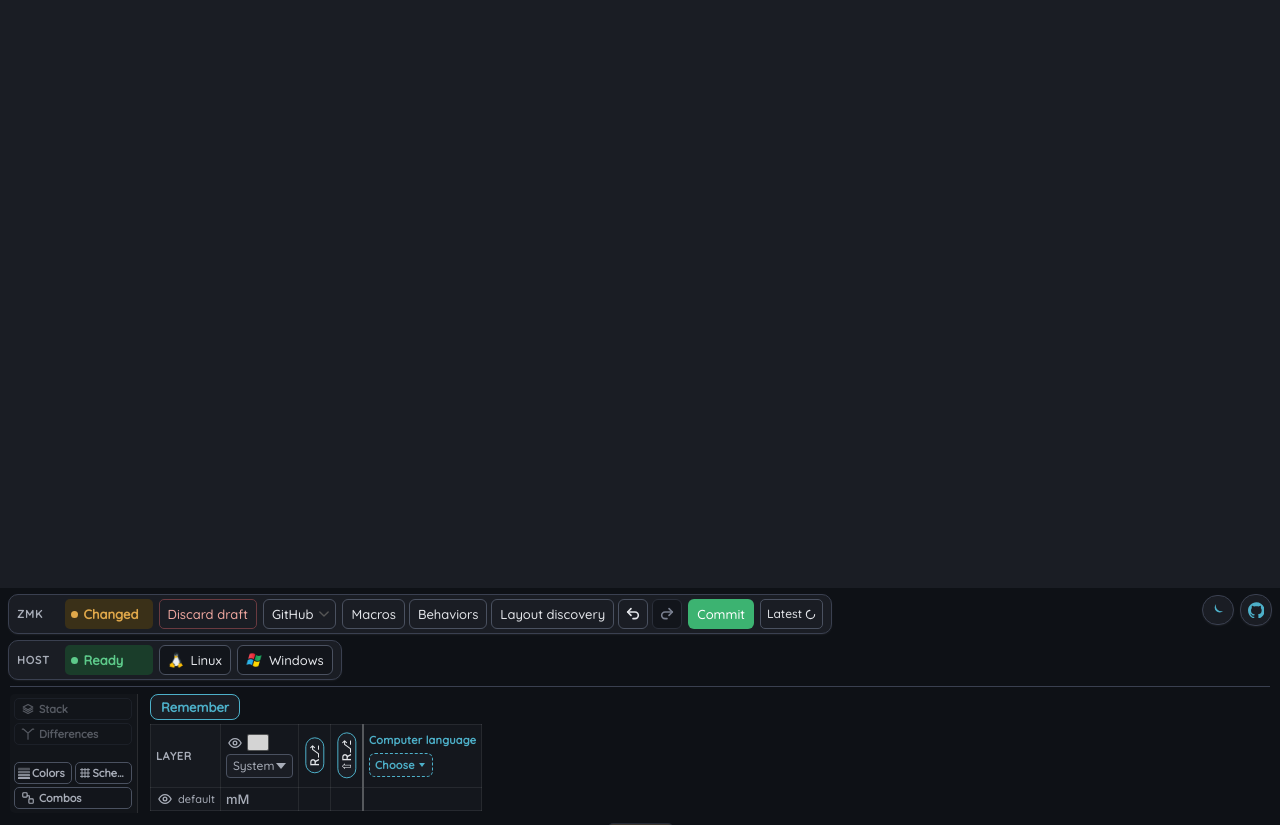
Scenario: App chrome › shows a reload notice when GitHub Commit fails because the branch moved
Check: the element with class "app-chrome" is shown, box top-left (8, 594), bottom-right (832, 680)
Click the button "Commit" at {"x": 721, "y": 614}, box top-left (688, 599), bottom-right (754, 629)
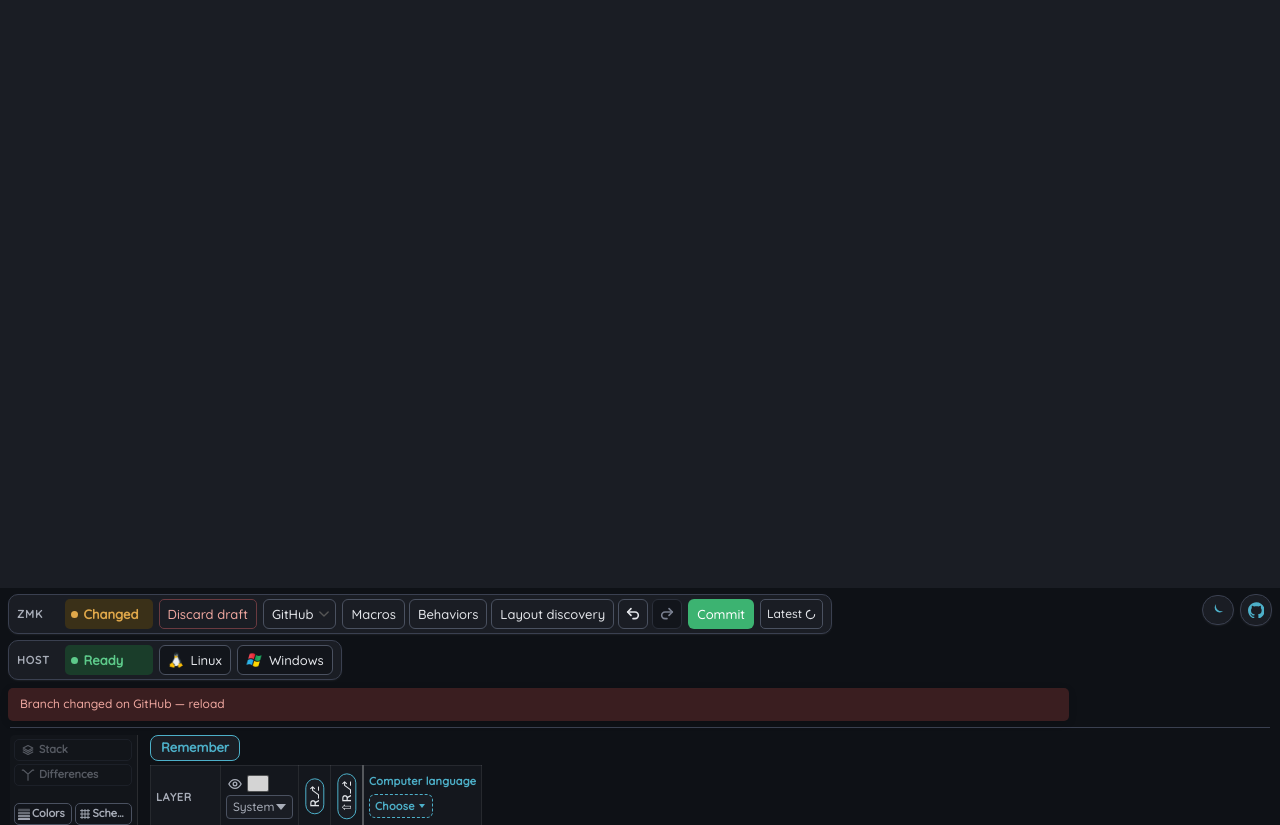
Check: the message with class "error" reads "Branch changed on GitHub — reload", box top-left (20, 696), bottom-right (225, 711)
